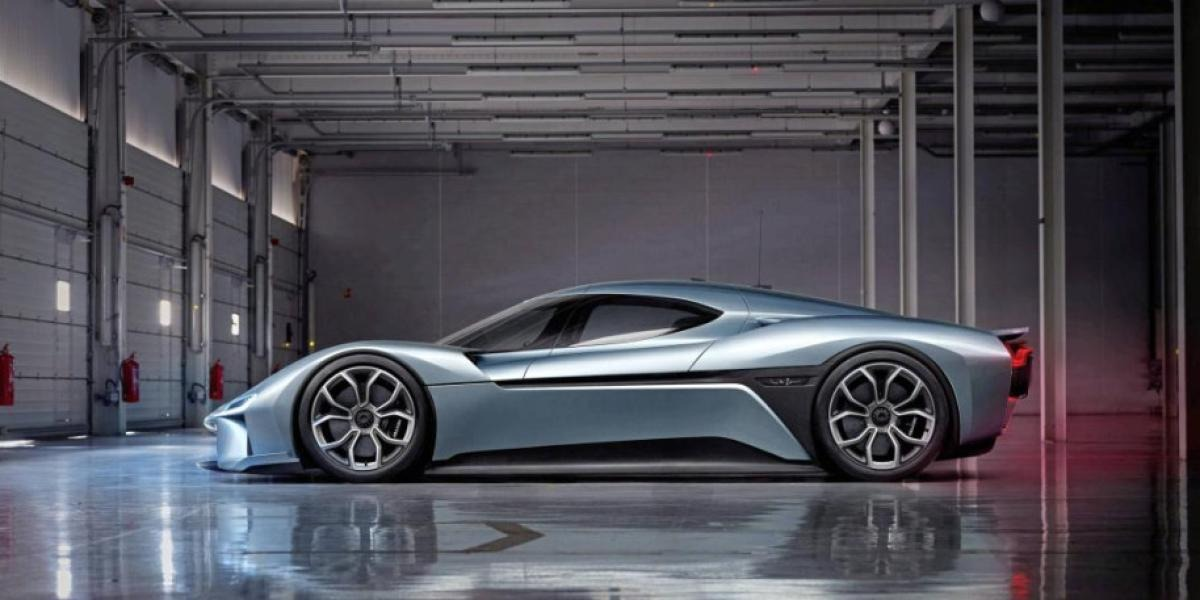car: (245, 269, 1000, 481)
